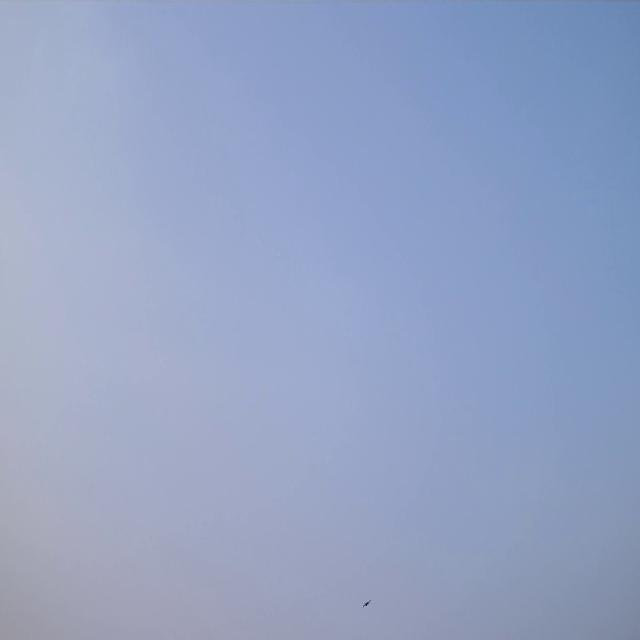UAV: (362, 598, 372, 609)
